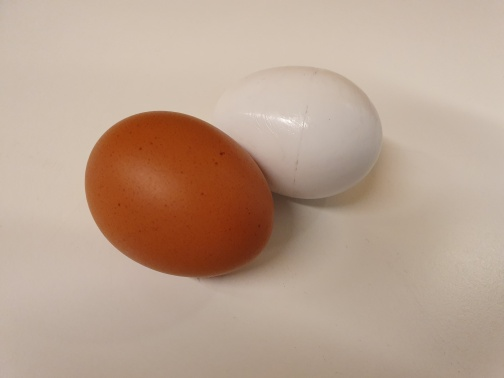egg: (84, 110, 273, 282), (215, 68, 383, 199)
